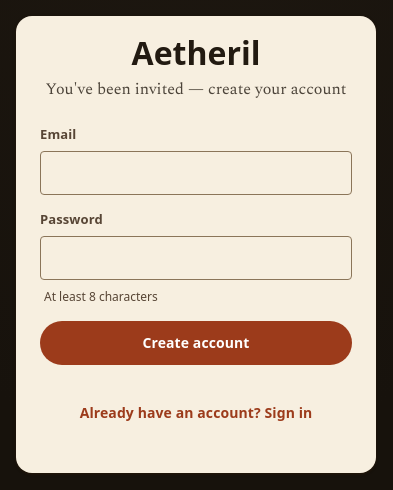
App auth gate › offers a route to Login from the Signup screen
Click the button "Already have an account? Sign in". click: [196, 412]
box: [56,390,336,434]
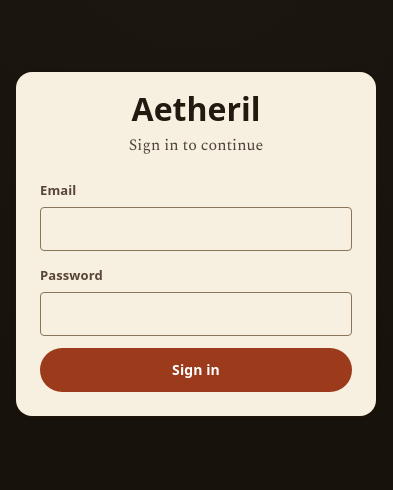
Expected: the button "Sign in" is shown, [40,348,352,392]
